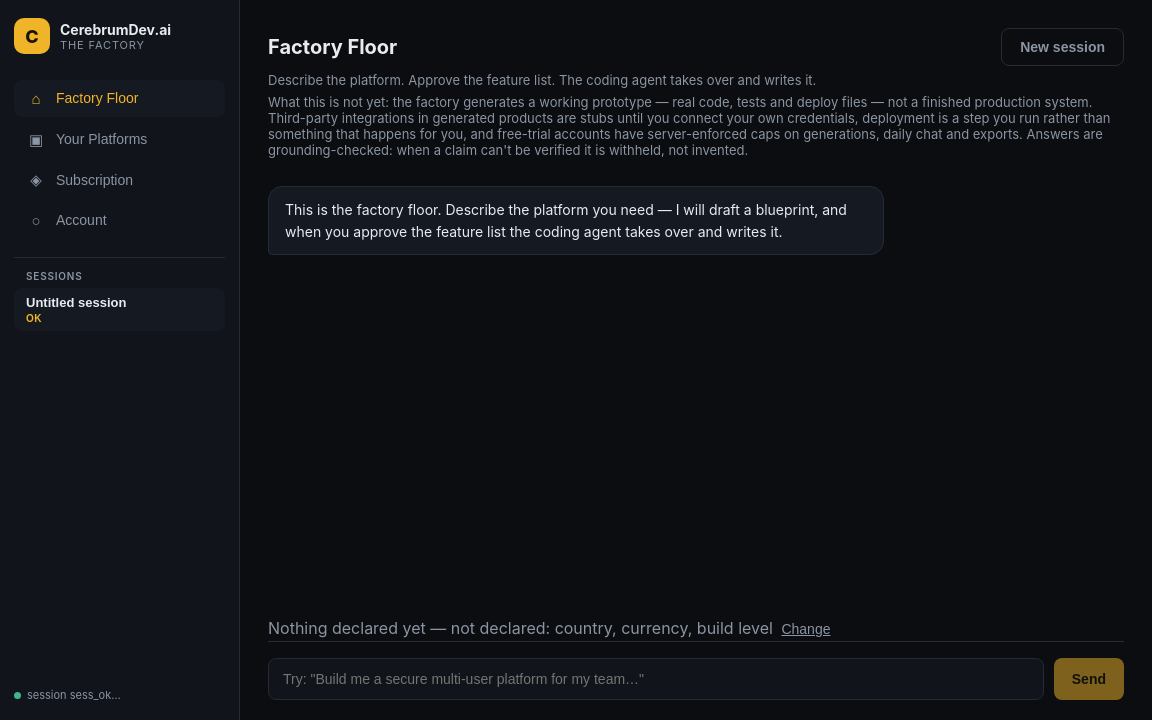
Scenario: App boot › Account Verified is Yes on first paint from boot /me — never No
The width and height of the screenshot is (1152, 720).
Expected: the heading "Factory Floor" is shown, top-left (268, 35), bottom-right (397, 59)
Click the button "○ Account" at (120, 221), box top-left (14, 202), bottom-right (225, 239)
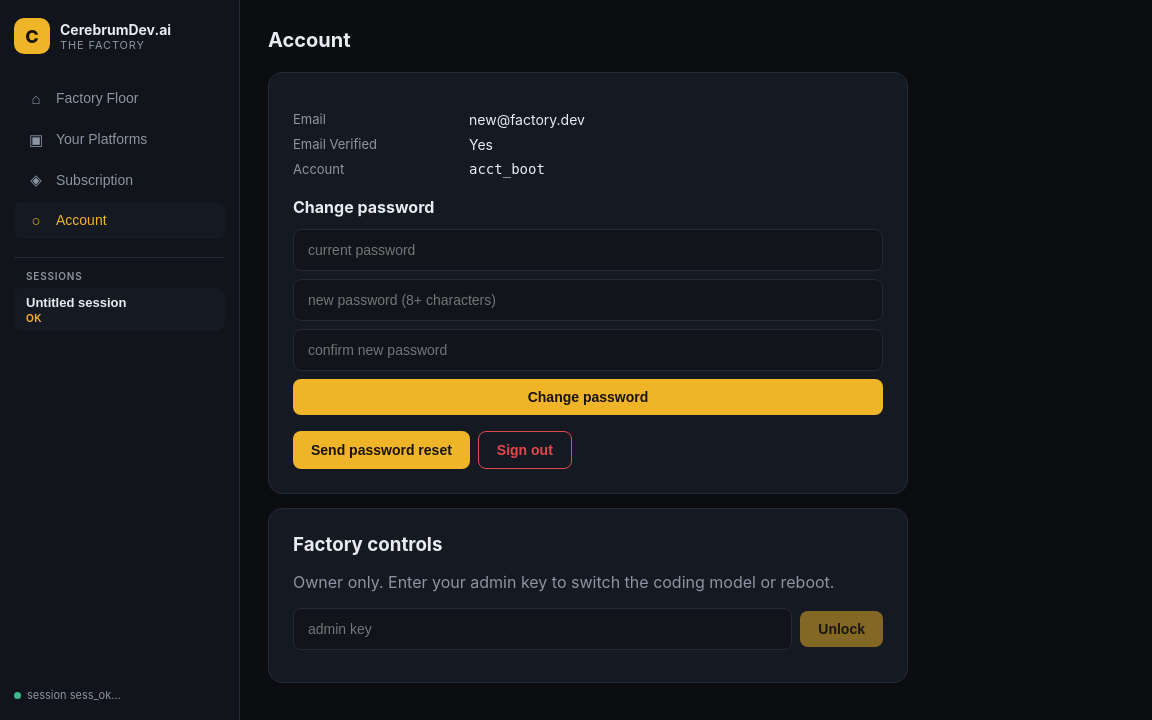
Expected: the heading "Account" is shown, top-left (268, 28), bottom-right (350, 52)
Expected: the text "Yes" is shown, top-left (469, 136), bottom-right (493, 153)
Expected: the text "no" is gone
